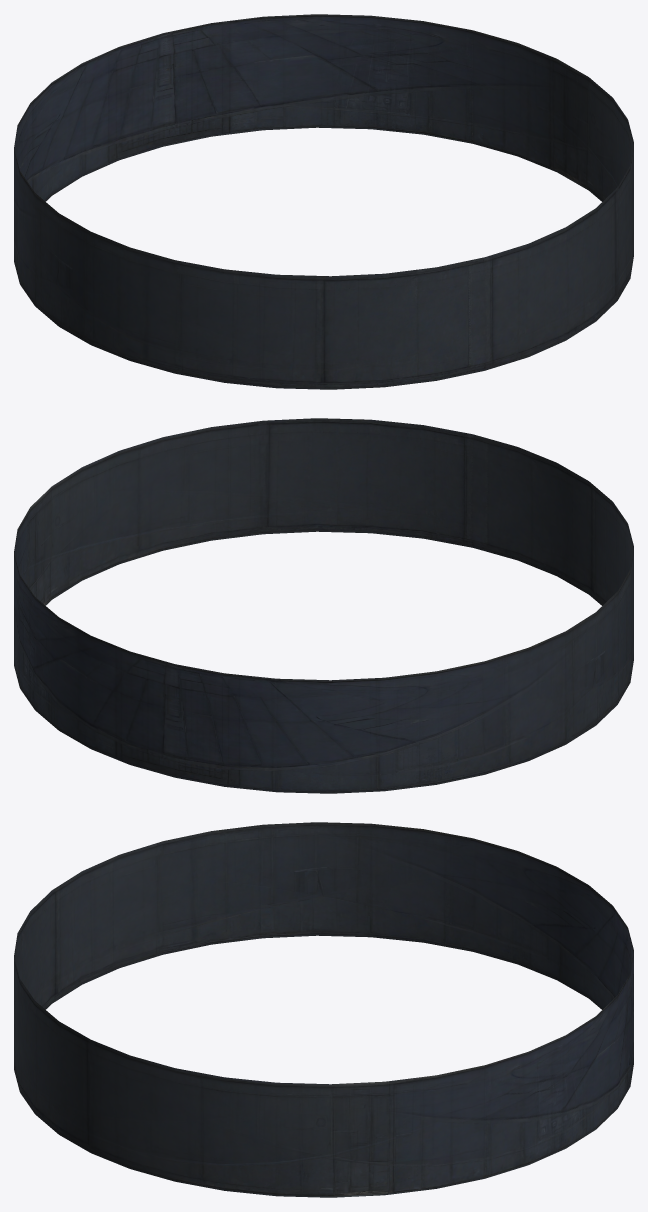
The model's file is skybox.fbx.
3 renders of one model, top to bottom at view 1: azimuth 30°, elevation 25°; view 2: azimuth 150°, elevation 25°; view 3: azimuth 270°, elevation 25°, orthographic.
Visible parts, largest first — view 1: nt:*ObjectIndoorScene_Md_KnightIndoor_Md_SkyBoxOutDoor__574d; view 2: nt:*ObjectIndoorScene_Md_KnightIndoor_Md_SkyBoxOutDoor__574d; view 3: nt:*ObjectIndoorScene_Md_KnightIndoor_Md_SkyBoxOutDoor__574d.
Boxes of the visible parts, left/top/right/bottom form: nt:*ObjectIndoorScene_Md_KnightIndoor_Md_SkyBoxOutDoor__574d: left=14, top=14, right=633, bottom=389; nt:*ObjectIndoorScene_Md_KnightIndoor_Md_SkyBoxOutDoor__574d: left=14, top=418, right=633, bottom=793; nt:*ObjectIndoorScene_Md_KnightIndoor_Md_SkyBoxOutDoor__574d: left=14, top=822, right=633, bottom=1197.
Bounding box in the file's own units: 200 × 40.43 × 200.
1 material, 1 textured.
